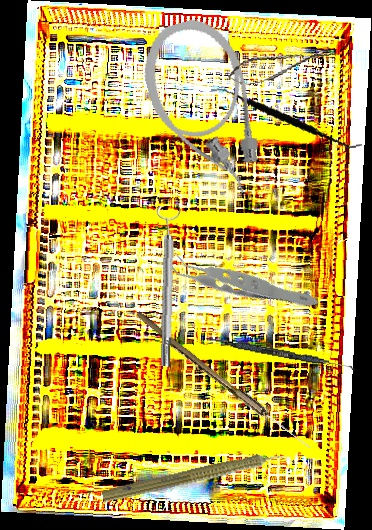Cannula: (132, 10, 275, 211)
Fixation Ring: (150, 206, 184, 367)
Handpiece: (100, 443, 297, 511)
Micro Scissor: (225, 42, 334, 89)
Spatula Surgical: (210, 65, 363, 169), (205, 335, 357, 372)
Surgical Spoon: (132, 311, 315, 452)
Tissue Forceps: (158, 197, 321, 361)
